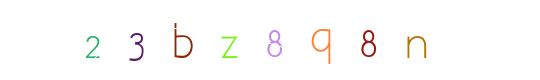2: (53, 0, 133, 80)
3: (98, 0, 178, 80)
8: (230, 0, 310, 80), (244, 0, 324, 80)
B: (189, 0, 269, 80)
N: (307, 0, 387, 80)
Q: (237, 0, 317, 80)
Z: (204, 0, 284, 80)
